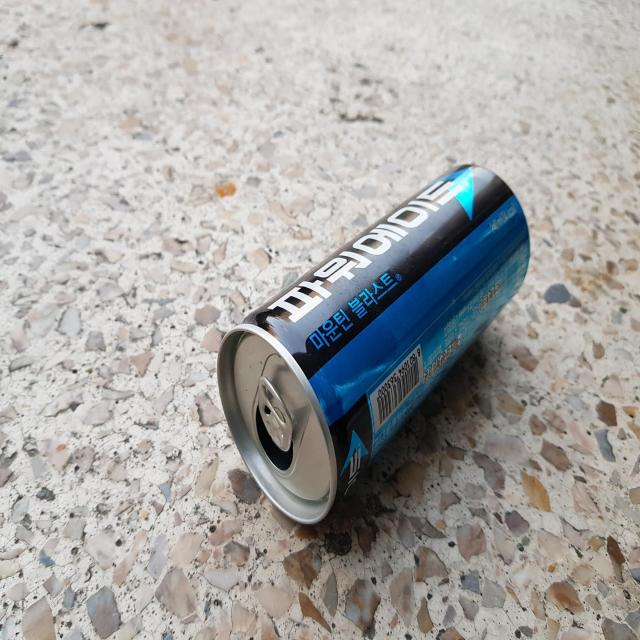can: (217, 165, 531, 525)
